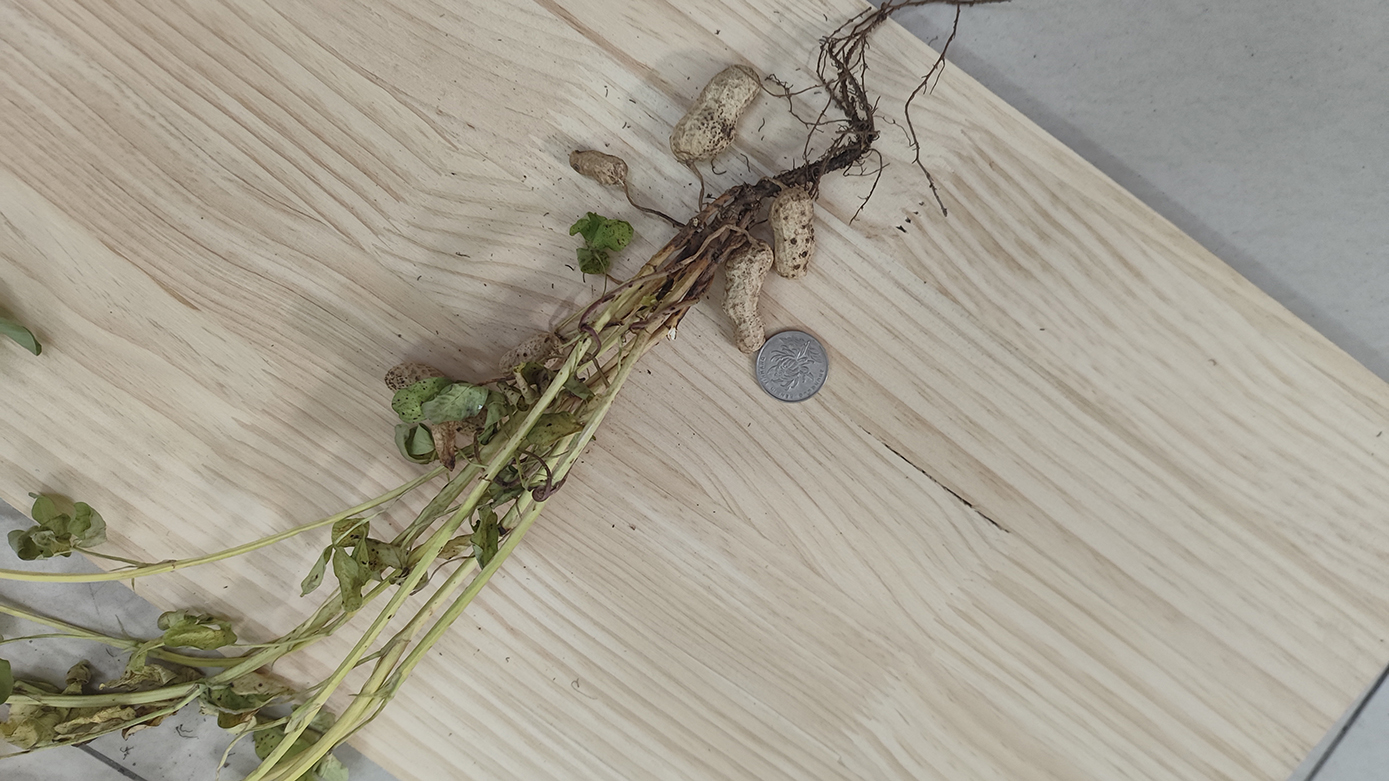h: (670, 65, 761, 162), (722, 240, 773, 354), (768, 188, 815, 279), (569, 149, 629, 188)
